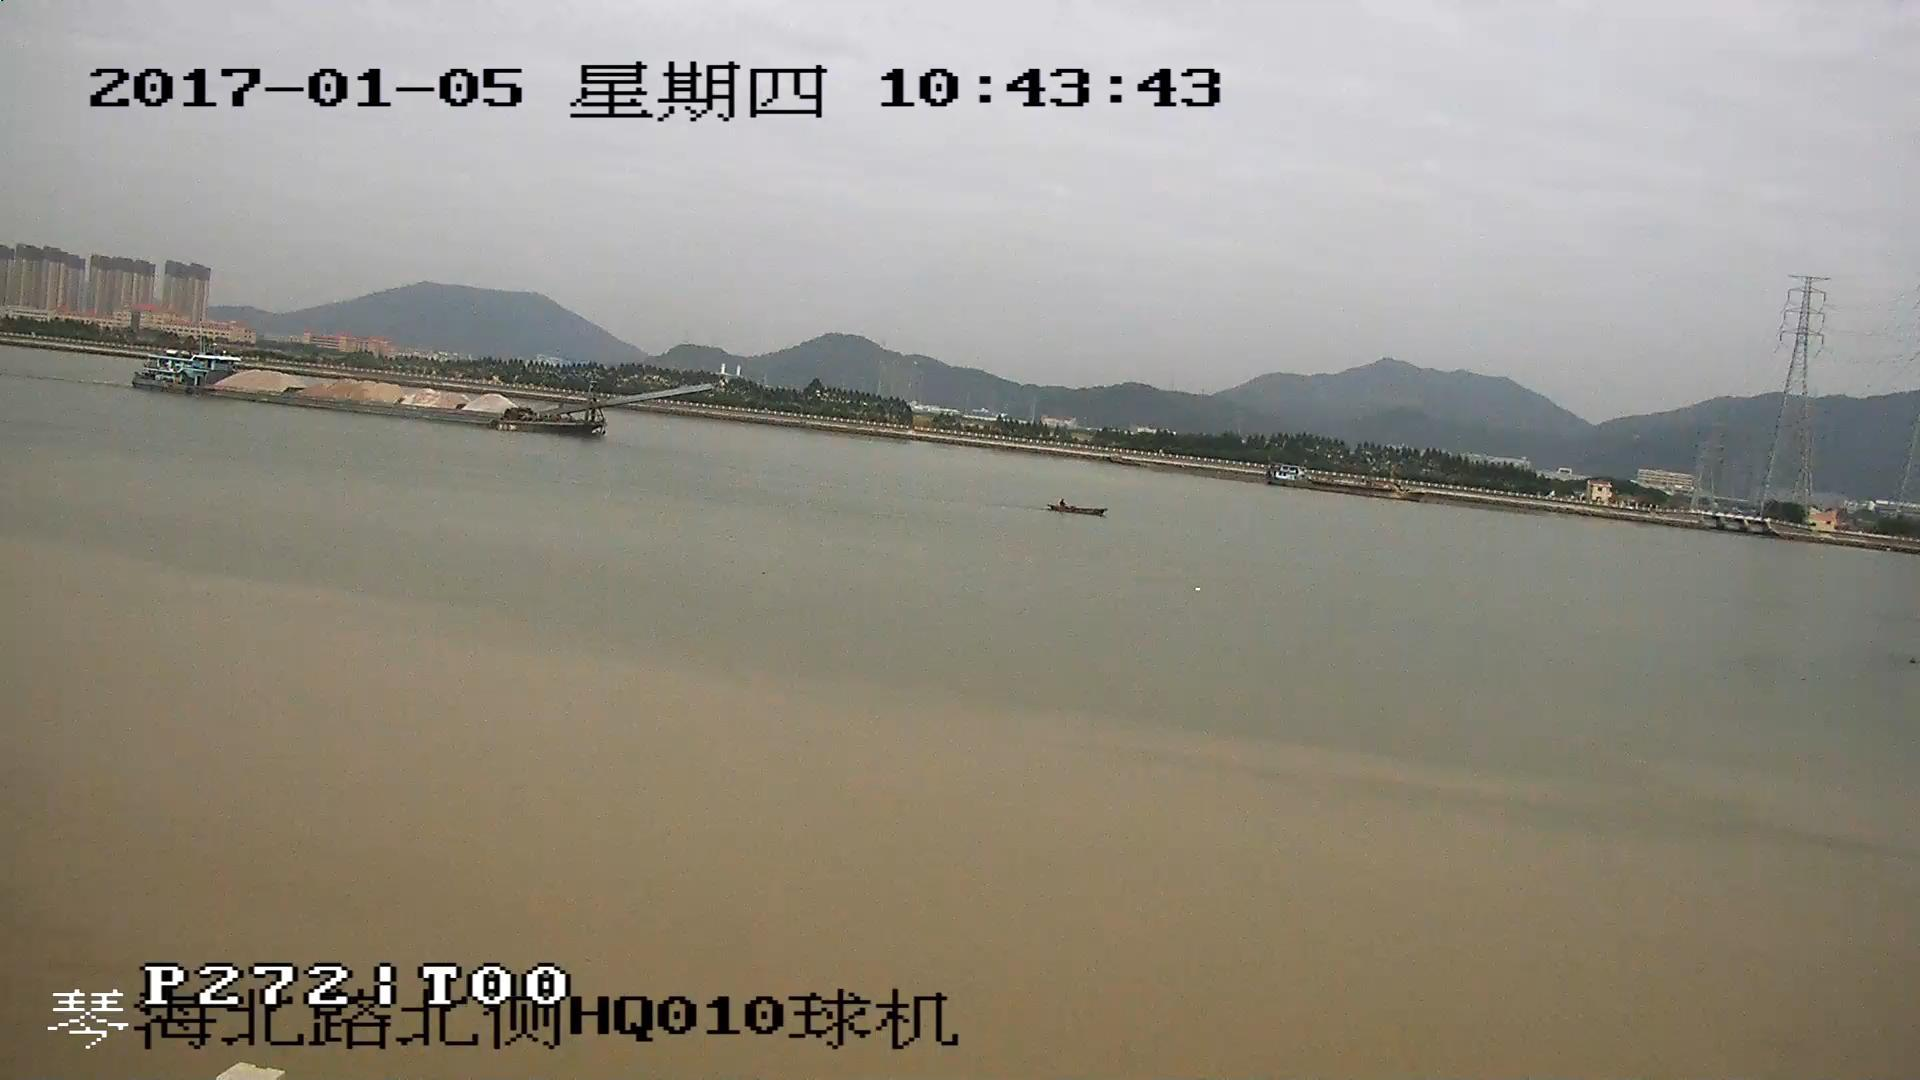Ship: (135, 352, 723, 436), (1046, 500, 1106, 517)
